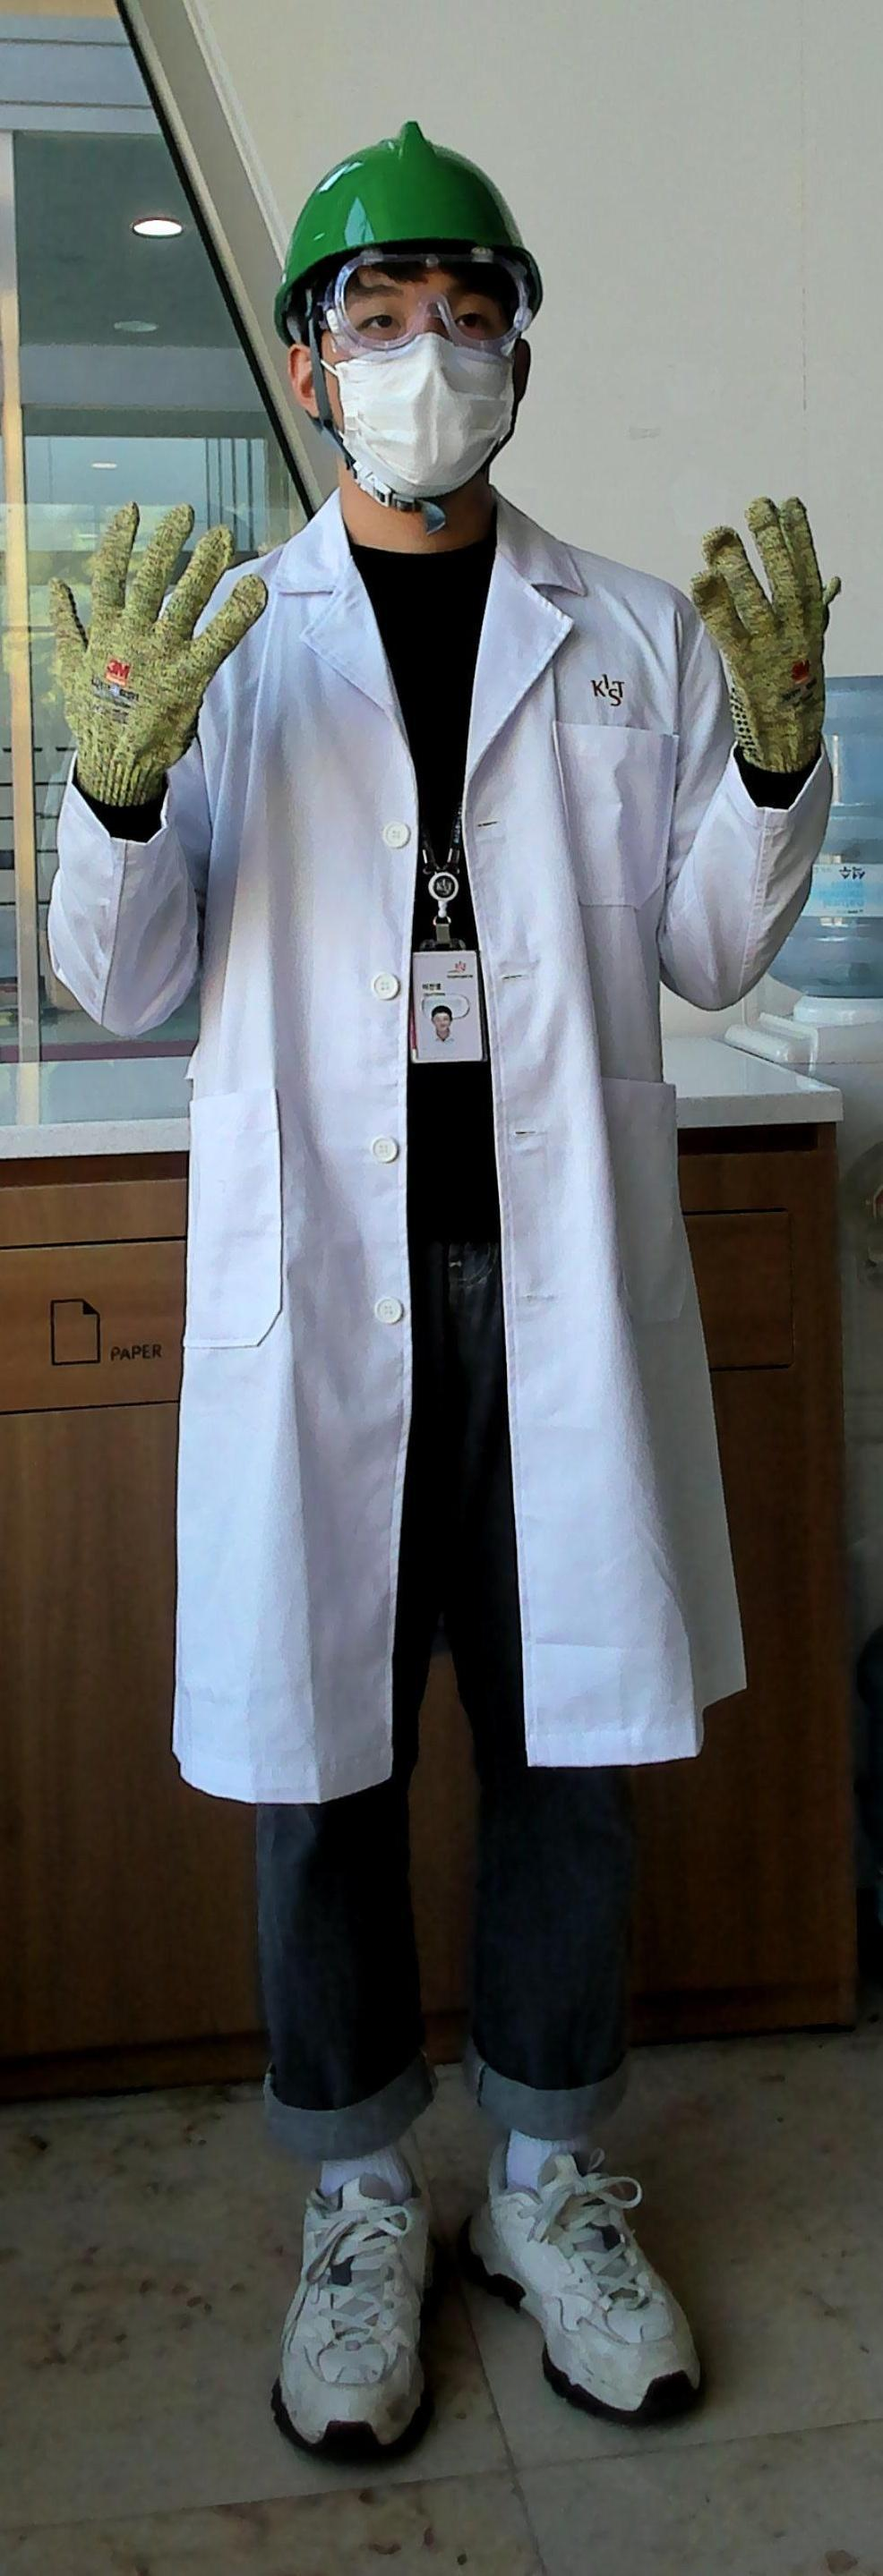lab_coat: (194, 565, 686, 1773)
